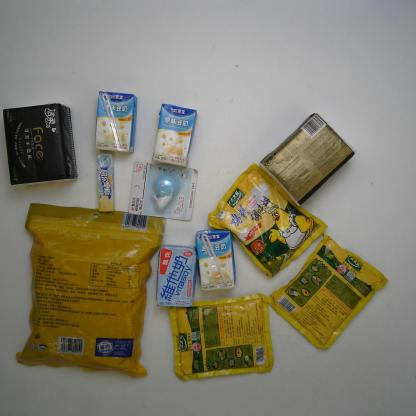Candy: (96, 152, 116, 214)
Dried Food: (13, 201, 167, 380)
Milk: (150, 103, 198, 169), (94, 90, 139, 156), (155, 244, 199, 309), (195, 228, 237, 294)
Seasoner: (206, 161, 329, 280), (268, 231, 390, 350), (168, 291, 276, 384)
Stationery: (126, 160, 198, 223)
Tissue: (258, 112, 357, 207), (1, 101, 79, 189)
